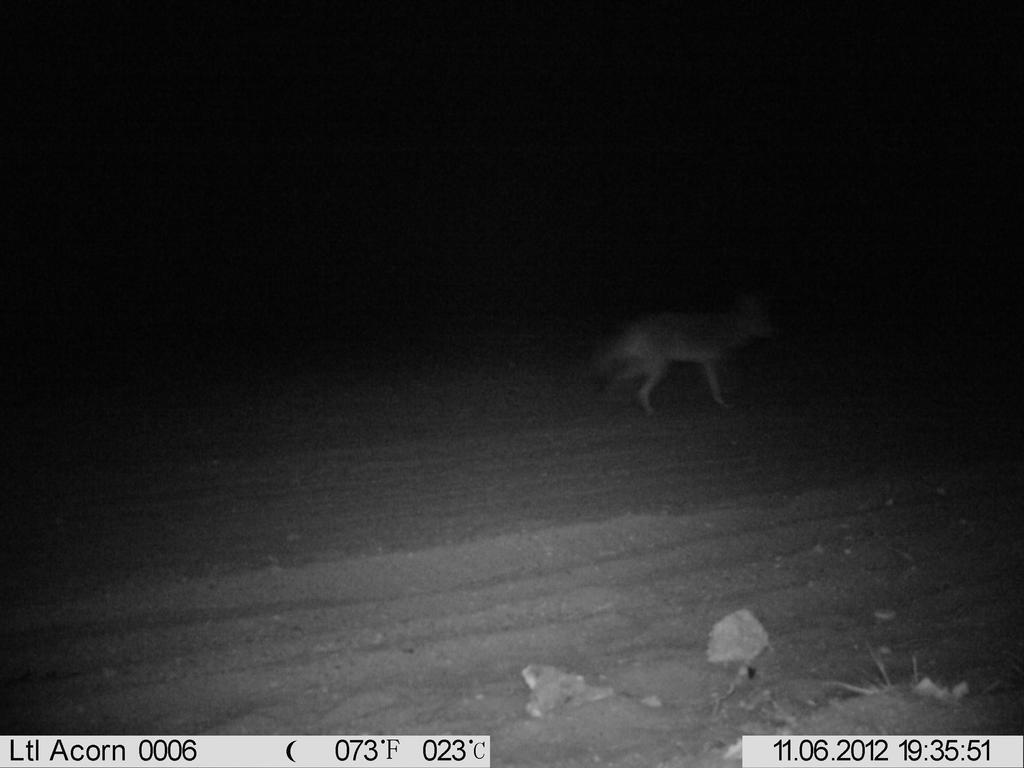coyote: (588, 289, 779, 424)
